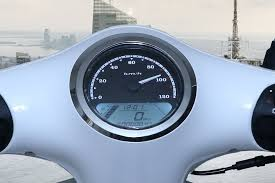Digital_Meter: (99, 105, 169, 126)
